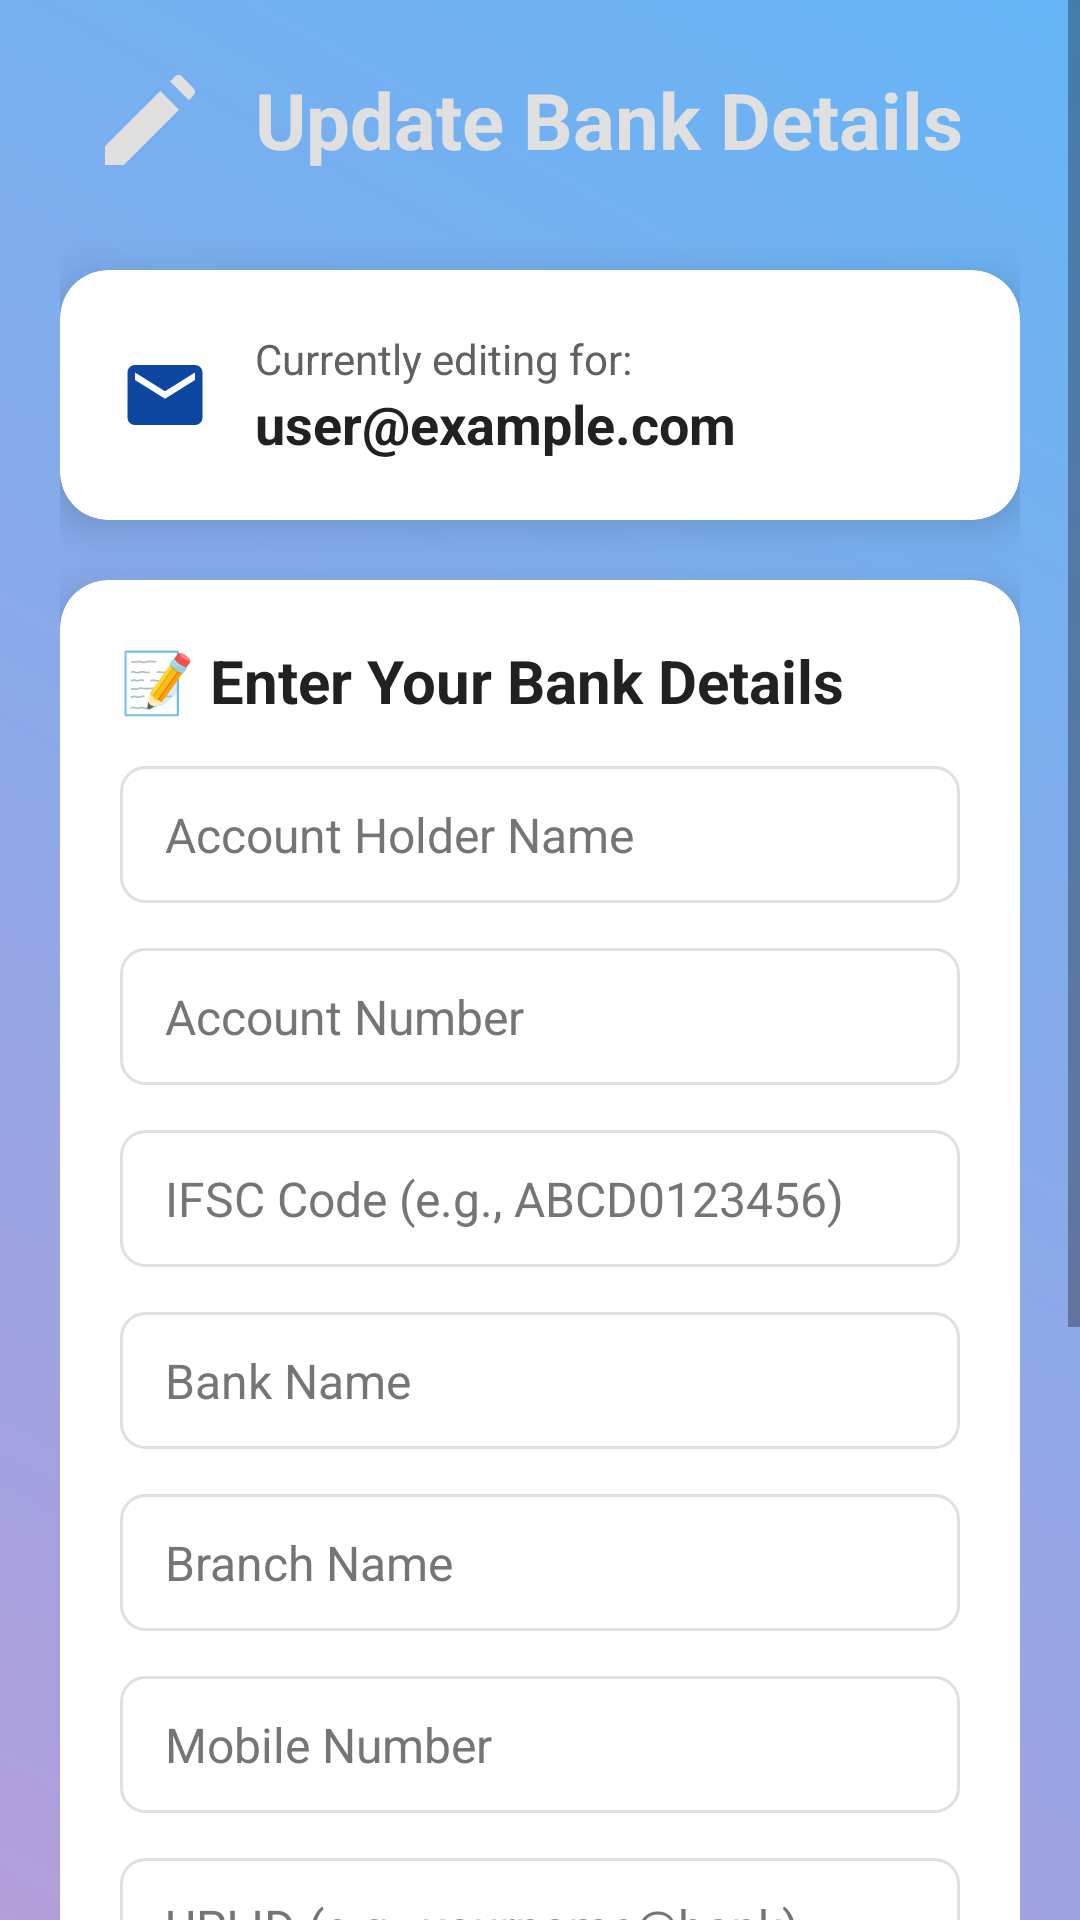

Where to tap for icons on this 1080w x 1920h app screen, as (x,y):
bankaccount email: (165,395)
bankform edit account details: (150,120)
